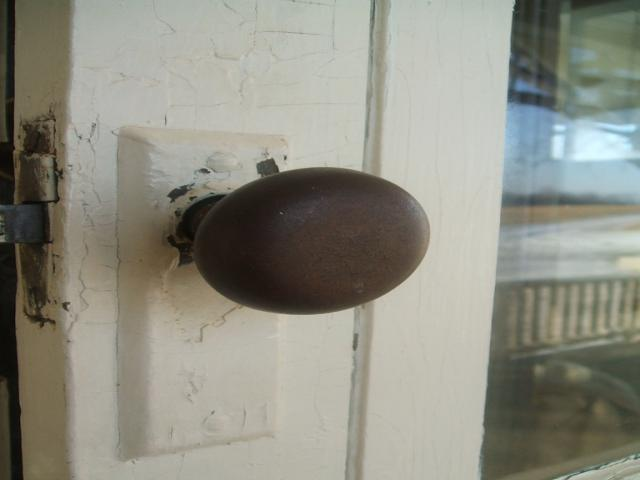Door-handle: (115, 125, 426, 459)
